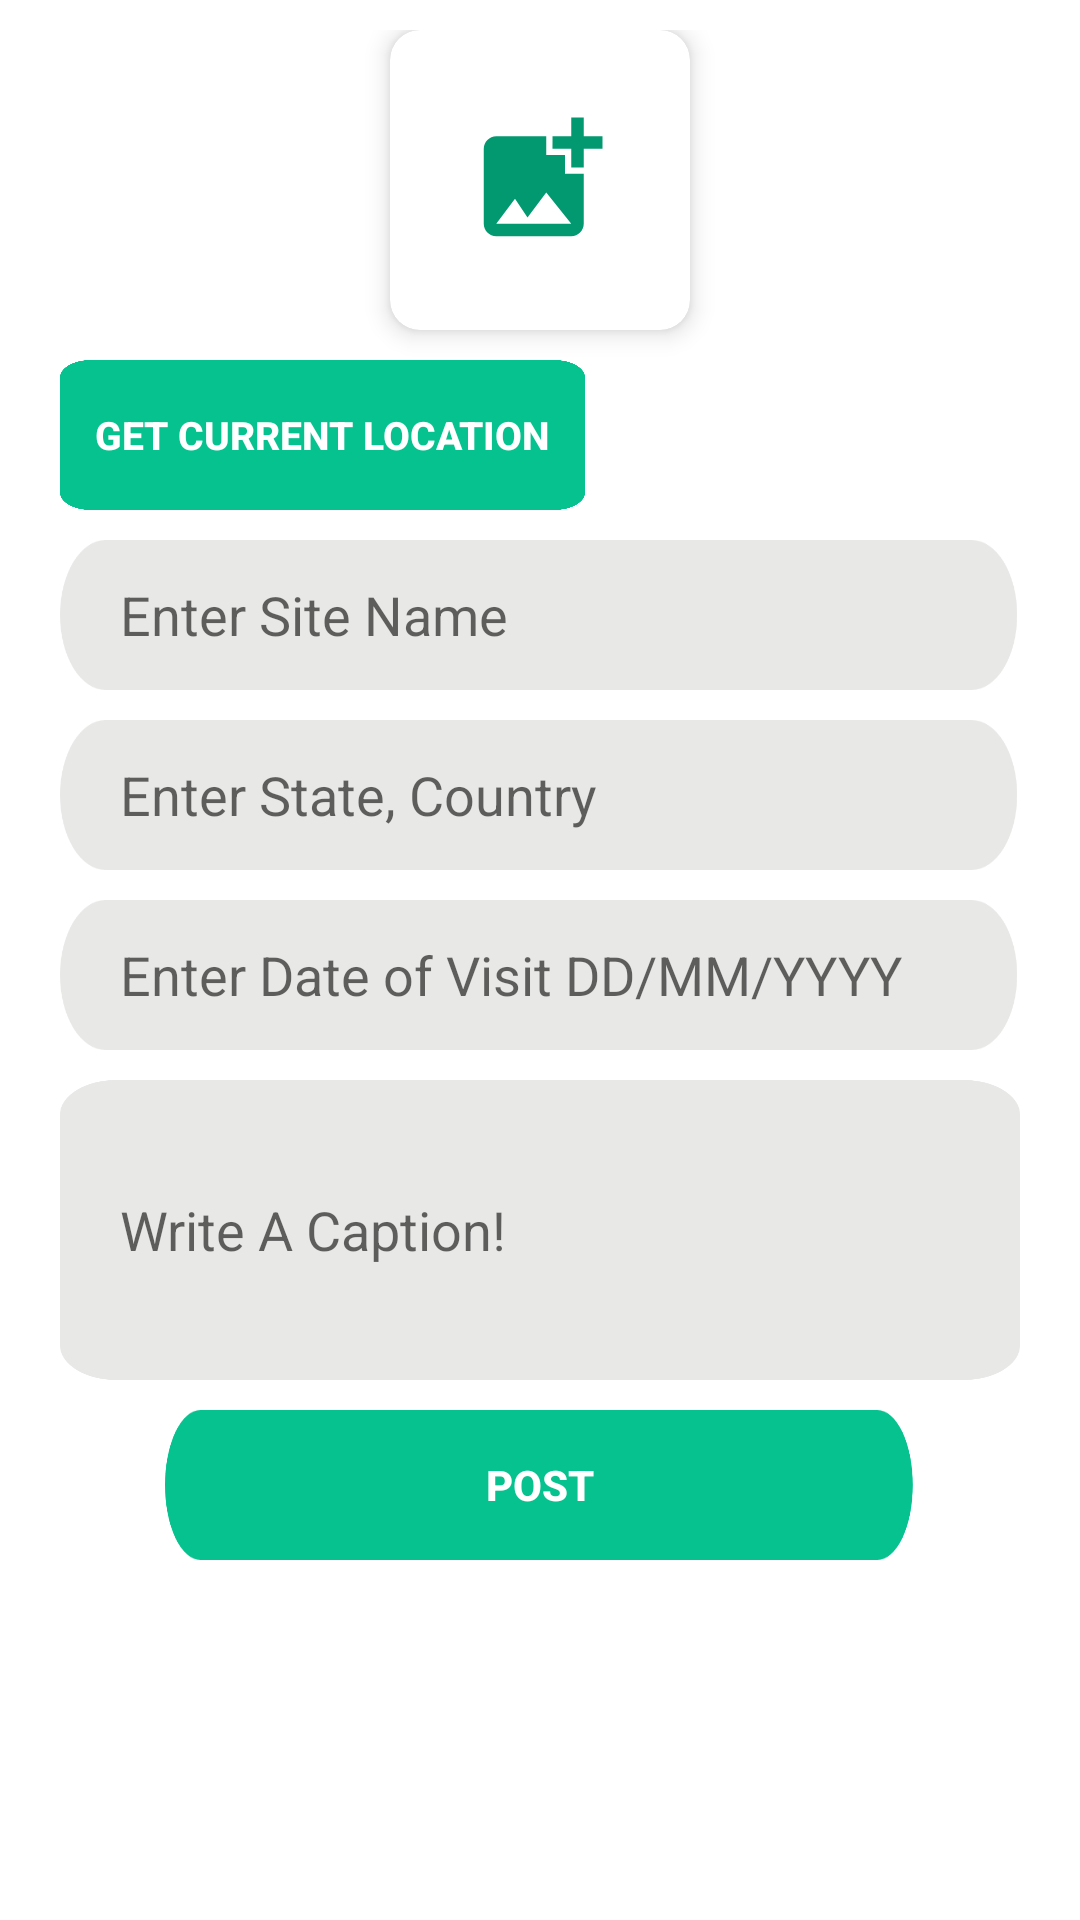

Icons on this 1080w x 1920h Android screen, each with the point to tap as point (x, y):
add photo alternate: point (543, 177)
